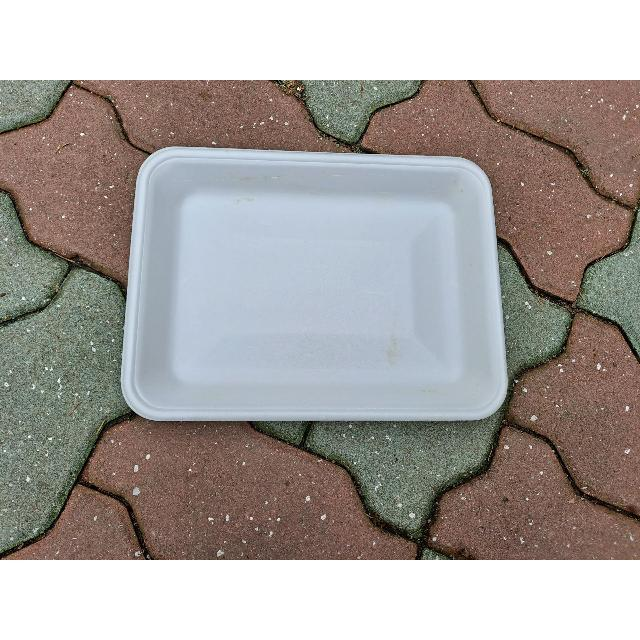Recipiente plastico: (121, 148, 508, 421)
